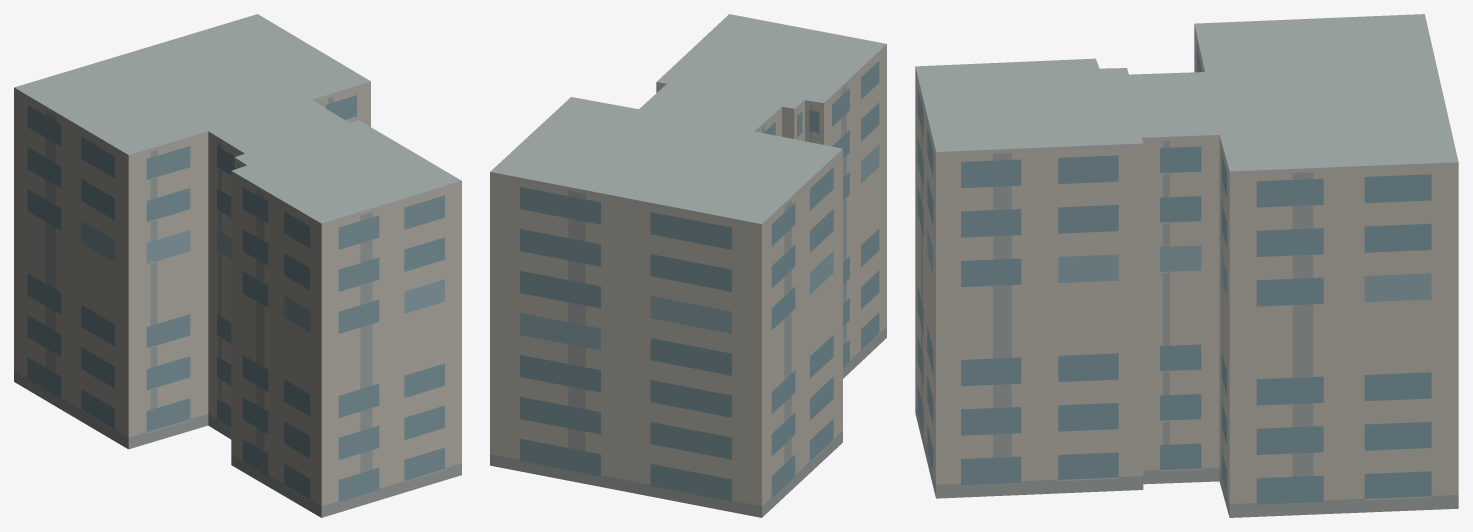
The model's file is survey-upis-32976654.glb.
3 renders of one model, left to right at view 1: azimuth 30°, elevation 25°; view 2: azimuth 150°, elevation 25°; view 3: azimuth 270°, elevation 25°, orthographic. The views are drawn at different scales.
Parts seen in each view (by area): view 1: survey-upis-32976654.tmp; view 2: survey-upis-32976654.tmp; view 3: survey-upis-32976654.tmp.
Boxes of the visible parts, x1=… form: survey-upis-32976654.tmp: x1=14, y1=14, x2=461, y2=517; survey-upis-32976654.tmp: x1=490, y1=14, x2=886, y2=517; survey-upis-32976654.tmp: x1=915, y1=14, x2=1458, y2=517.
Bounding box in the file's own units: 20.13 × 20.65 × 29.35.
